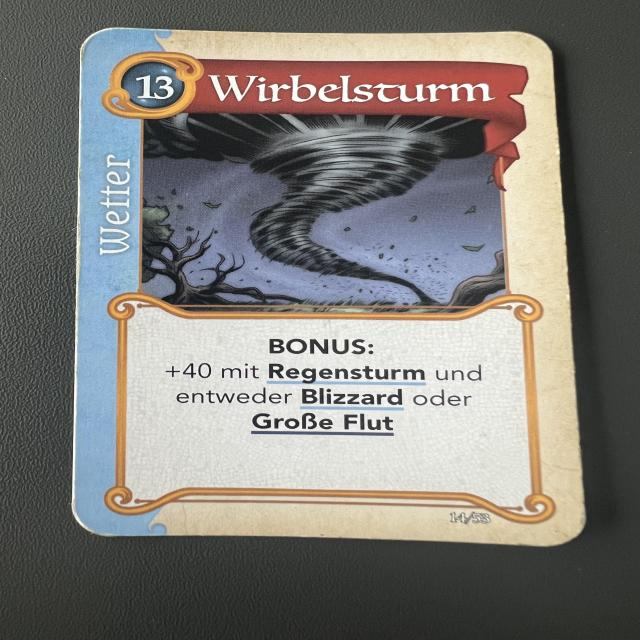Whirlwind: (58, 23, 597, 560)
